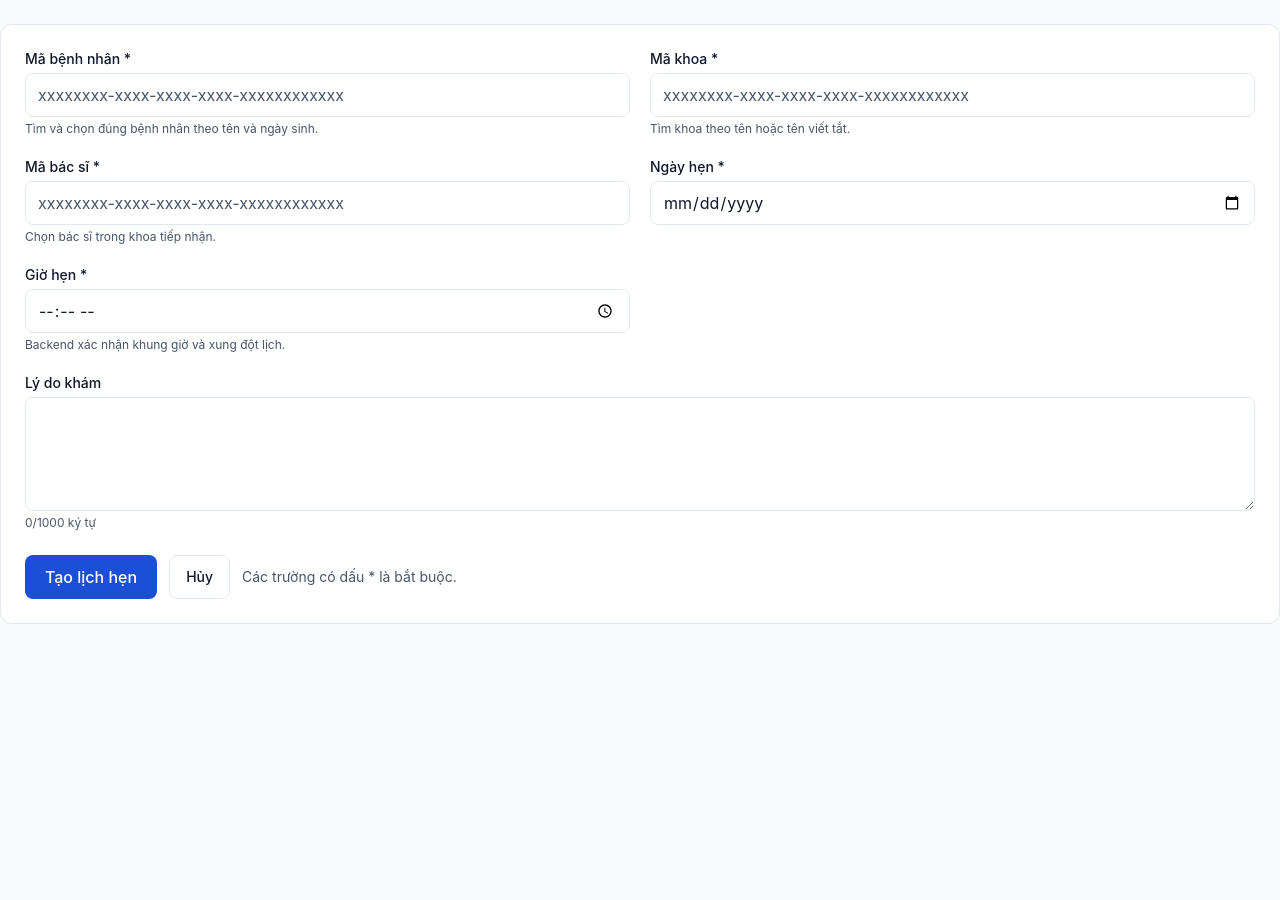
Appointment forms › maps server field errors and preserves their correlation ID
The image size is (1280, 900).
Type "123e4567-e89b-42d3-a456-426614174000" into the field labelled "Mã bệnh nhân". click: (328, 95)
box: x1=25 y1=73 x2=630 y2=117
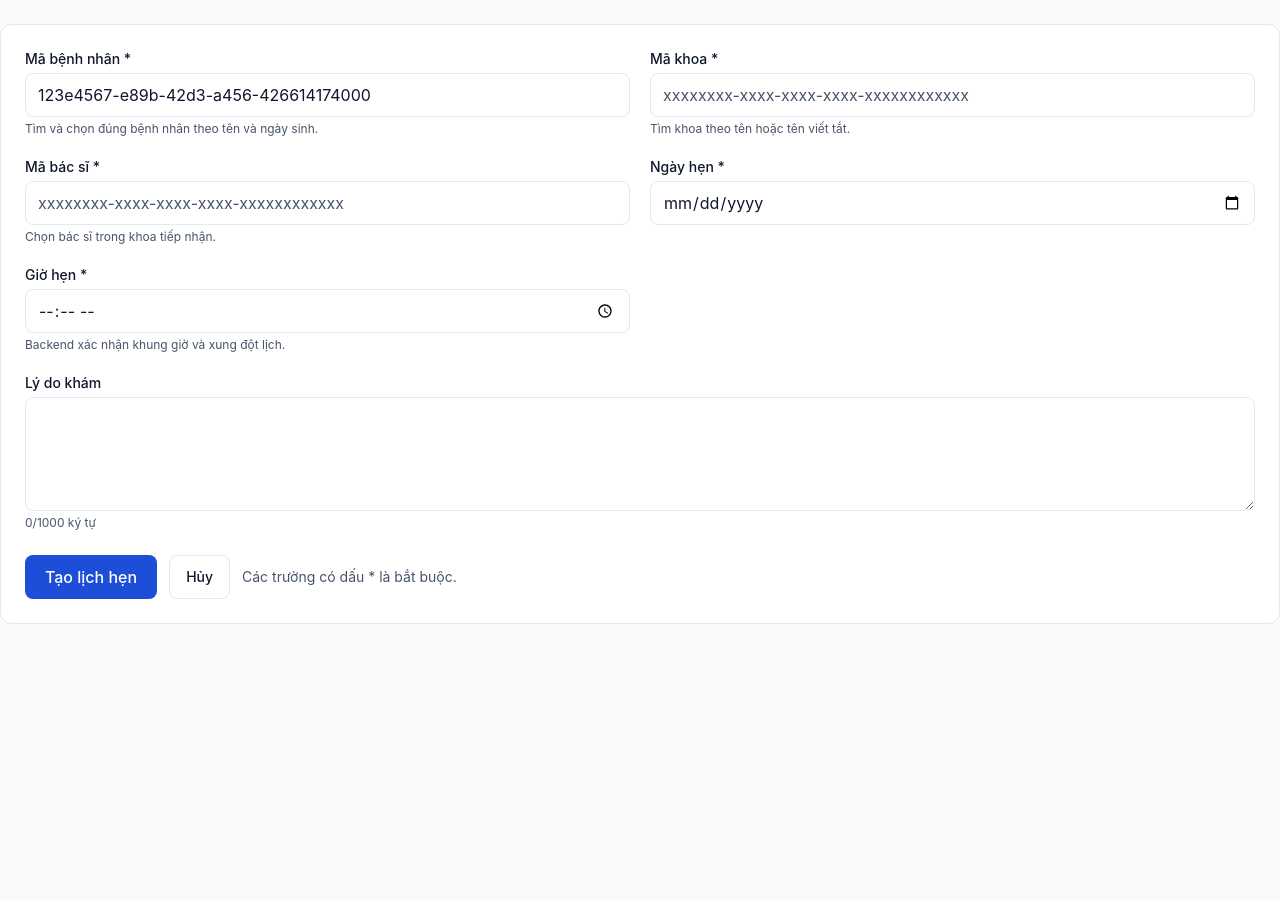
Type "123e4567-e89b-42d3-a456-426614174002" into the field labelled "Mã khoa". click: (952, 95)
box: x1=650 y1=73 x2=1255 y2=117
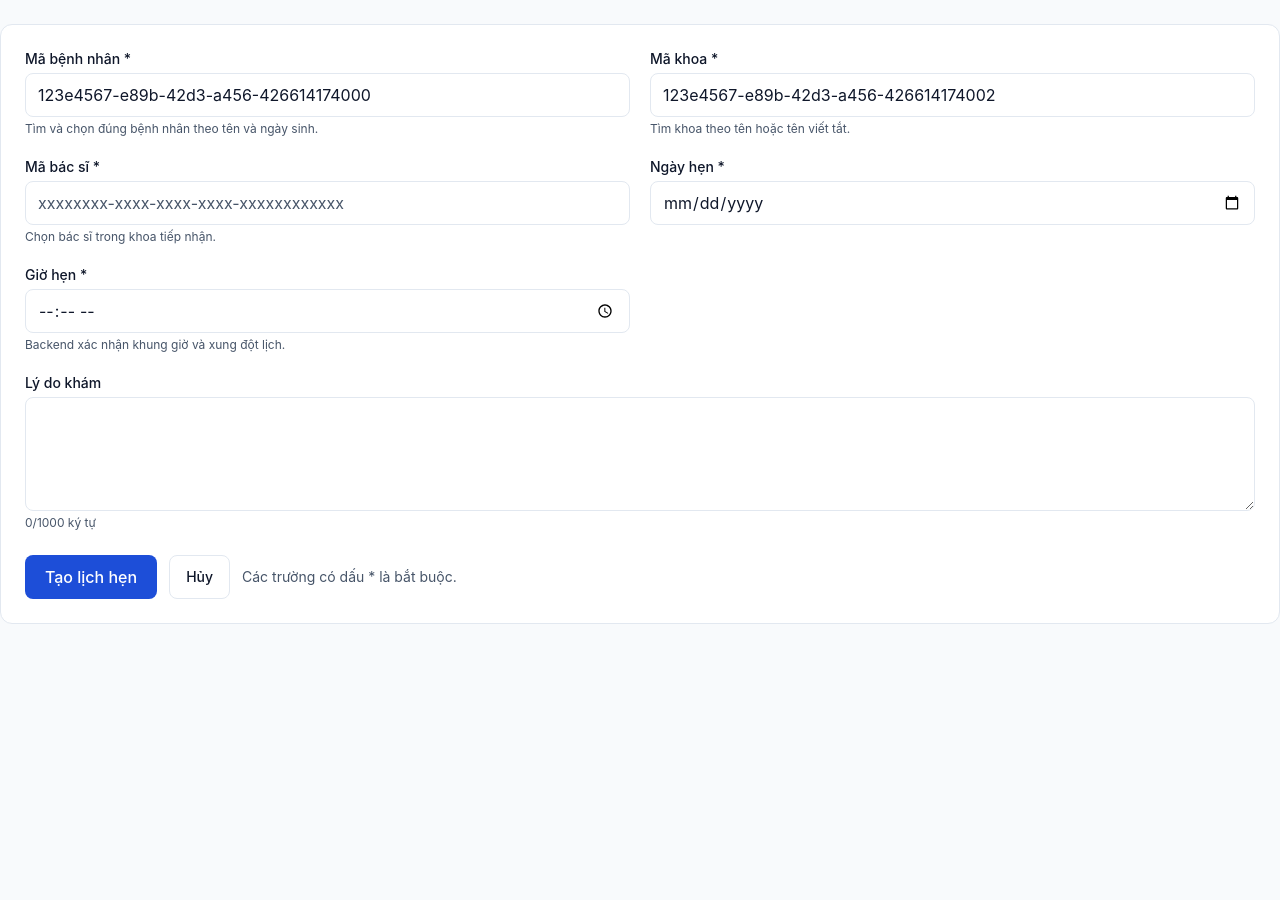
Type "123e4567-e89b-42d3-a456-426614174001" into the field labelled "Mã bác sĩ". click: (328, 203)
box: x1=25 y1=181 x2=630 y2=225
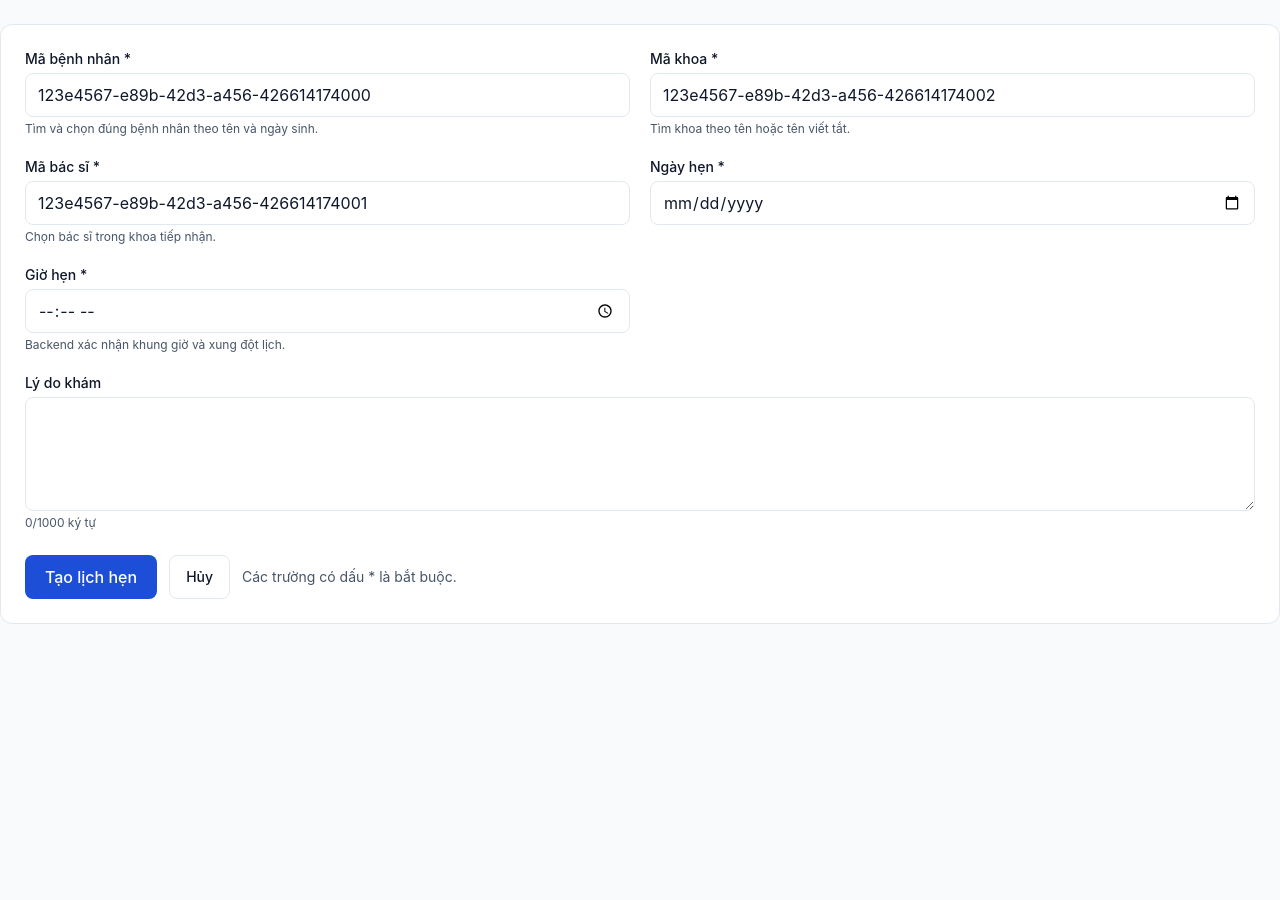
Type "2026-11-01" into the date field labelled "Ngày hẹn". click: (952, 203)
box: x1=650 y1=181 x2=1255 y2=225
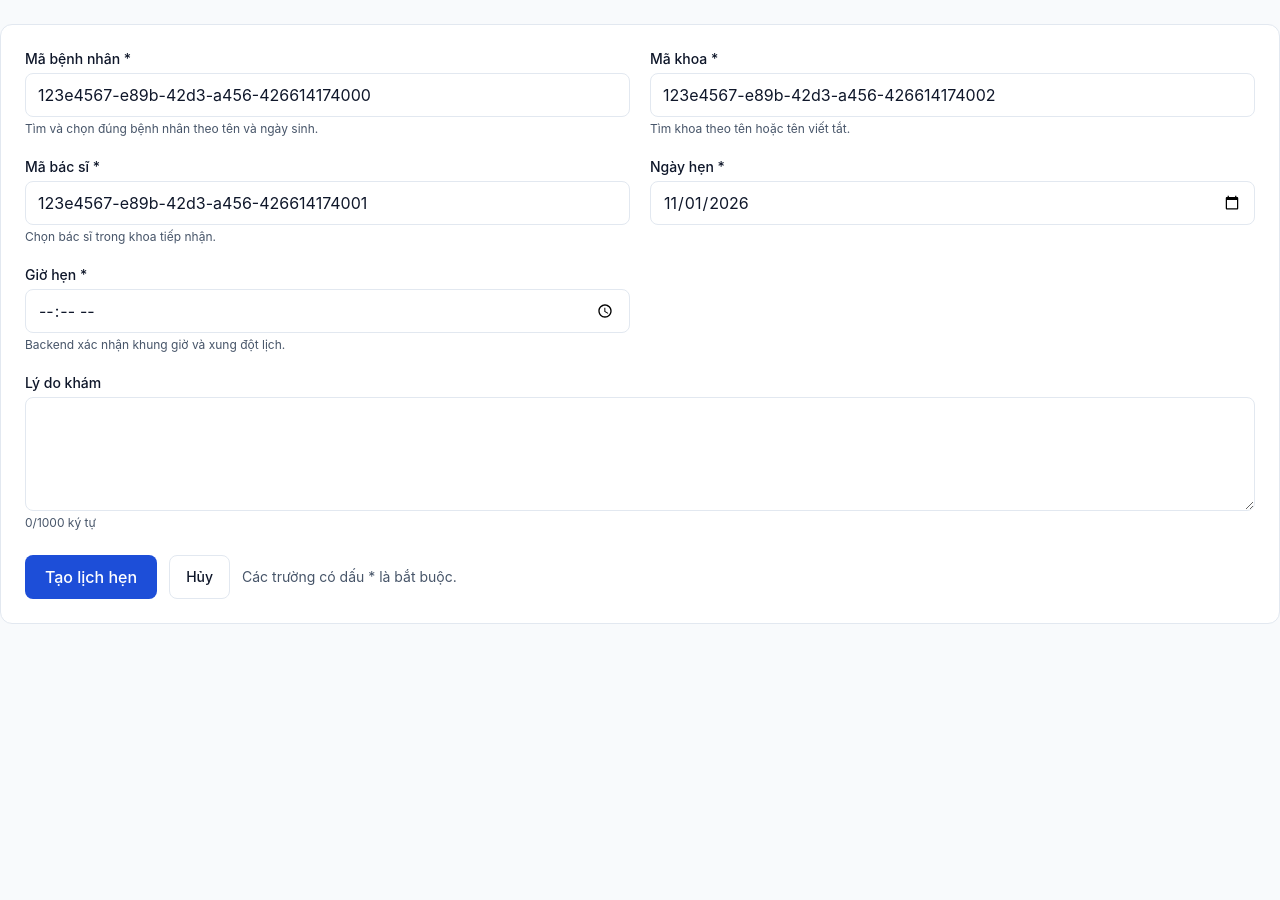
Type "09:00" into the time field labelled "Giờ hẹn". click: (328, 311)
box: x1=25 y1=289 x2=630 y2=333
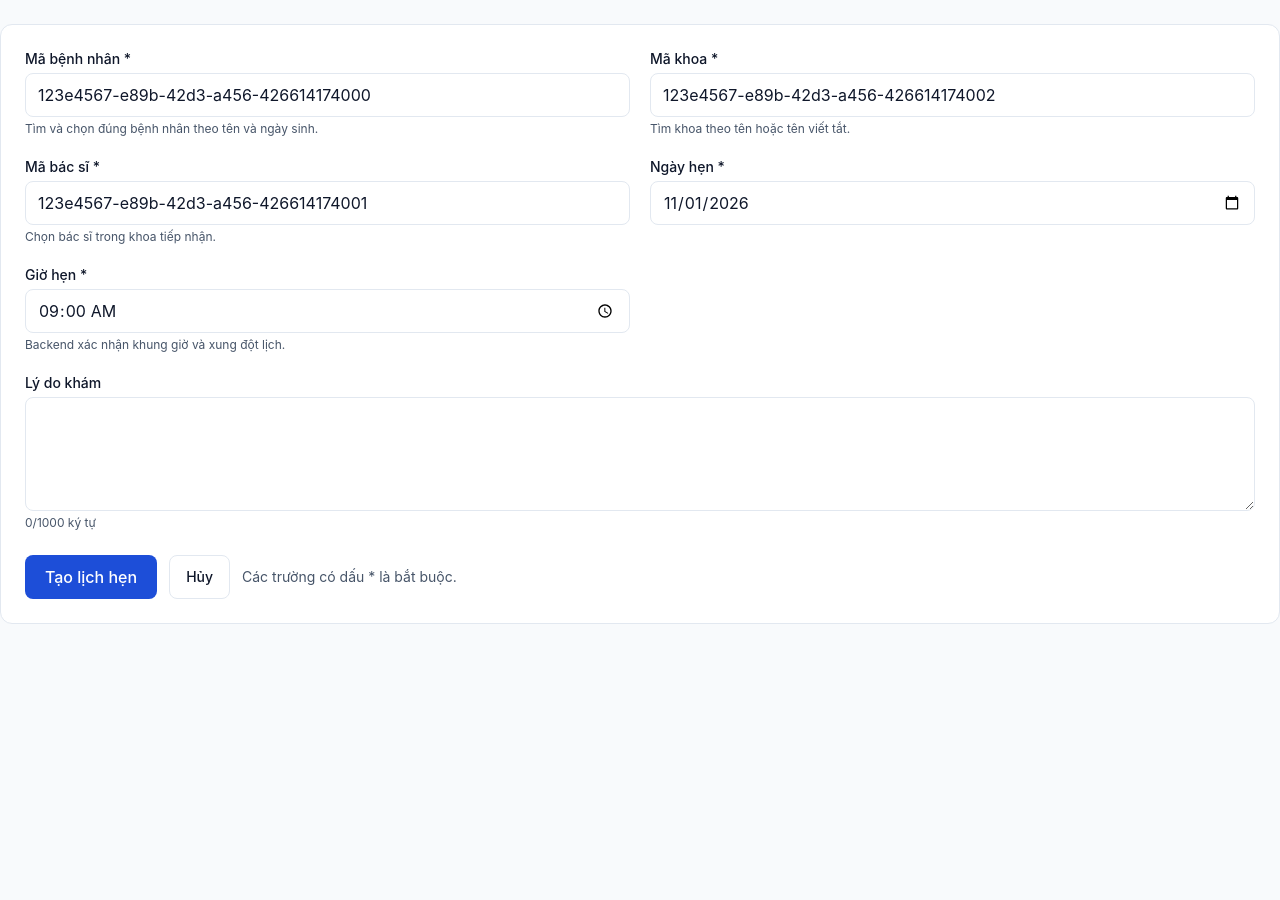
Click the button "Tạo lịch hẹn". click: (91, 577)
box: x1=25 y1=555 x2=157 y2=599
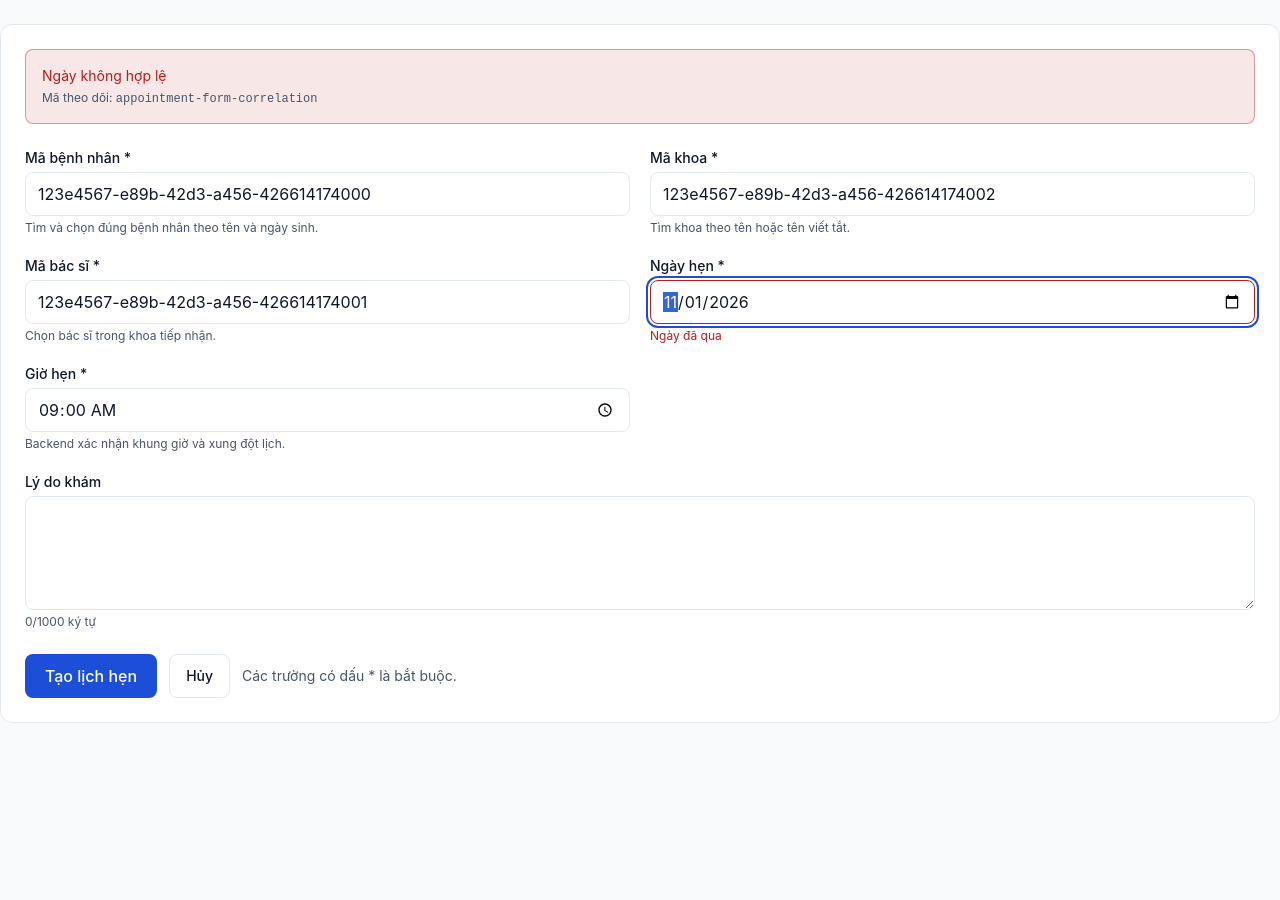
Now the text "Ngày đã qua" is shown, box x1=650 y1=328 x2=722 y2=343
Now the text "appointment-form-correlation" is shown, box x1=116 y1=92 x2=317 y2=106
